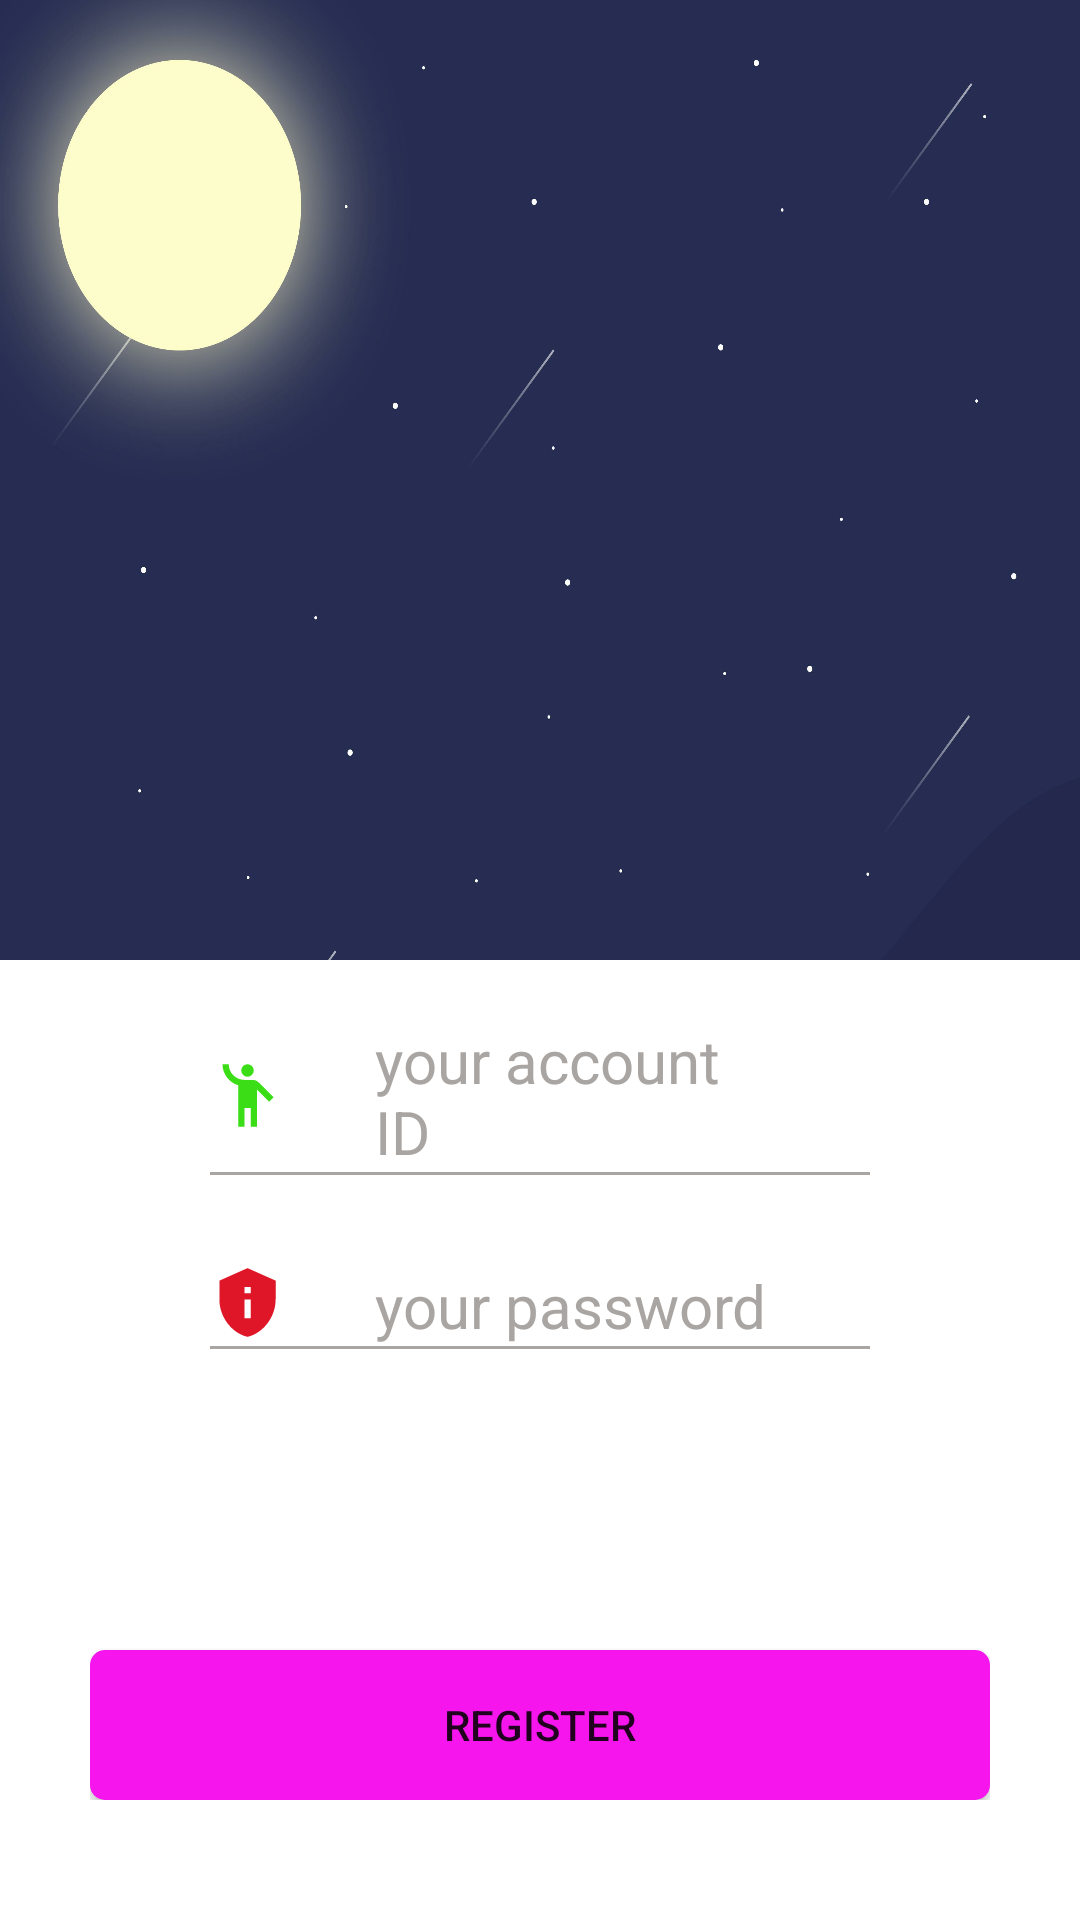

Where to tap for icons on this 1080w x 1920h app screen, as point (x, y):
lgn vec: point (248, 1095)
pwd vec: point (247, 1302)
